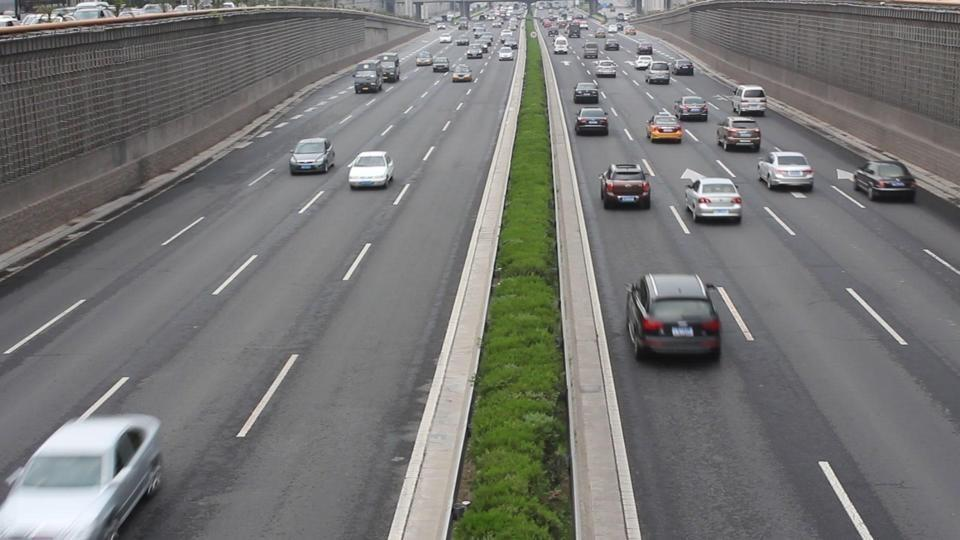car: (0, 412, 165, 540), (625, 273, 722, 360), (683, 176, 744, 224), (852, 159, 918, 202), (599, 161, 653, 210), (757, 149, 816, 191), (347, 151, 396, 190), (288, 138, 336, 175), (716, 115, 762, 153), (645, 110, 684, 143), (55, 2, 116, 22), (574, 108, 610, 136), (672, 95, 709, 122), (353, 64, 383, 94), (646, 61, 672, 85), (572, 82, 600, 103), (0, 13, 20, 28), (416, 50, 433, 67), (432, 57, 450, 73)
